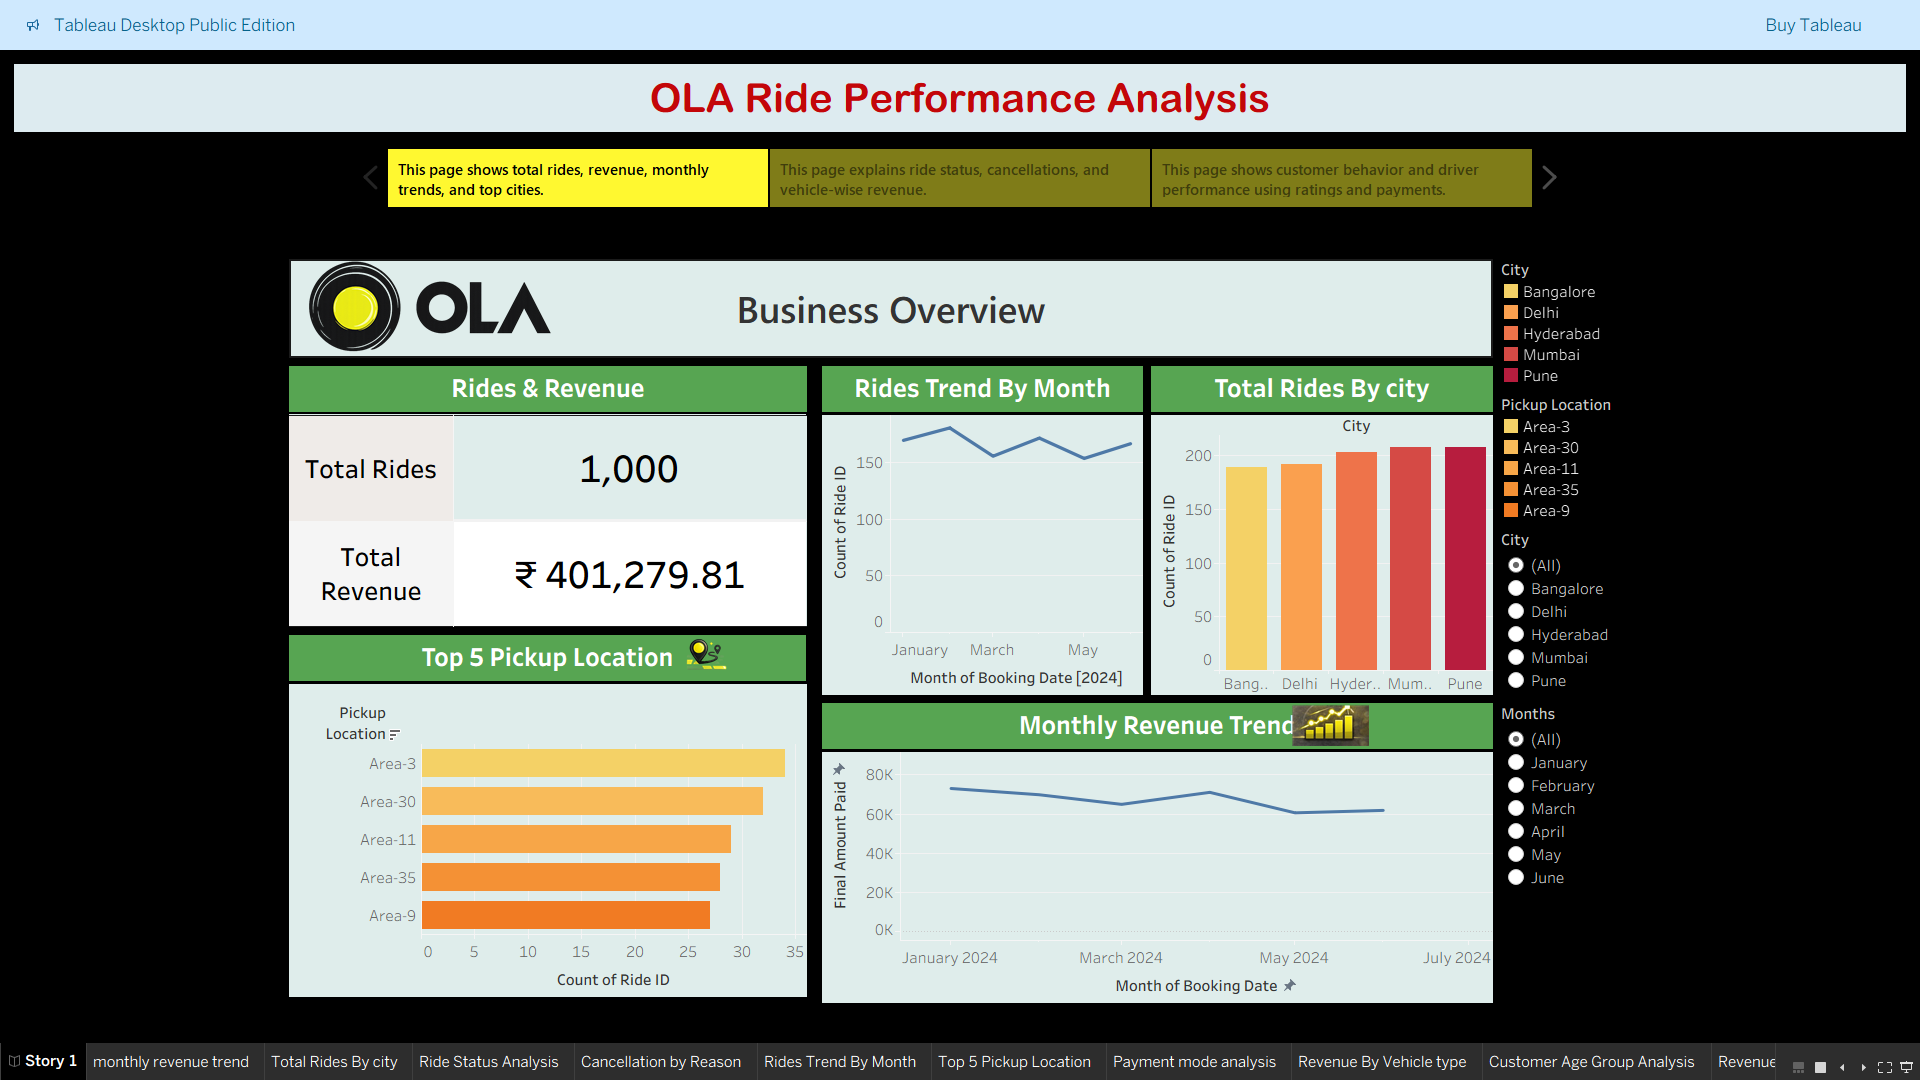

The page's visual inventory and layout, read from the dashboard file:
{"tool":"tableau","page":{"name":"Dashboard 1","canvas":[1366,768],"ordinal":0},"visuals":[{"type":"image","param":"Image/ChatGPT Image Jan 23, 2026, 07_50_12 PM.png","box":[24,6,341,106]},{"type":"title","box":[8,8,1212,107]},{"type":"legend","title":"Total Rides By city","param":"[federated.15s8yxy0pkkmwh123sj3a1ppizpt].[none:City:nk]","box":[1220,8,138,135]},{"type":"image","param":"Image/ChatGPT Image Jan 23, 2026, 10_05_11 PM (8).png","box":[768,25,127,71]},{"type":"worksheet","title":"Rides & revenue","mark":"Automatic","box":[8,115,533,269]},{"type":"worksheet","title":"Rides Trend By Month","mark":"Line","rows":["Ride_ID"],"cols":["Booking_Date"],"box":[541,115,329,337]},{"type":"worksheet","title":"Total Rides By city","mark":"Automatic","rows":["Ride_ID"],"cols":["City"],"box":[870,115,350,337]},{"type":"legend","title":"Top 5 Pickup Location","param":"[federated.15s8yxy0pkkmwh123sj3a1ppizpt].[none:Pickup_Location:nk]","box":[1220,143,138,135]},{"type":"filter","title":"Total Rides By city","param":"[federated.15s8yxy0pkkmwh123sj3a1ppizpt].[none:City:nk]","box":[1220,278,138,174]},{"type":"image","param":"Image/ChatGPT Image Jan 23, 2026, 10_05_11 PM (2).png","box":[397,380,62,67]},{"type":"worksheet","title":"Top 5 Pickup Location","mark":"Automatic","rows":["Pickup_Location"],"cols":["Ride_ID"],"box":[8,384,533,376]},{"type":"image","param":"Image/ChatGPT Image Jan 23, 2026, 10_05_11 PM (9).png","box":[1014,447,87,57]},{"type":"worksheet","title":"monthly revenue trend","mark":"Automatic","rows":["Final_Amount_Paid"],"cols":["Booking_Date"],"box":[541,452,679,308]},{"type":"filter","title":"Rides & revenue","param":"[federated.15s8yxy0pkkmwh123sj3a1ppizpt].[none:Calculation_0415371920162818:nk]","box":[1220,452,138,197]},{"type":"image","param":"Image/ChatGPT Image Jan 24, 2026, 09_20_13 PM.png","box":[1015,458,77,50]}]}

Visuals, with their boxes on the page's 1366x768 design canvas (x1, y1, x2, y2). These are canvas units, not pixel positions in the 1920x1080 screenshot, which may show the page scaled, cropped or inside an application window:
image: bbox=(24, 6, 365, 112)
title: bbox=(8, 8, 1220, 115)
"Total Rides By city" legend: bbox=(1220, 8, 1358, 143)
image: bbox=(768, 25, 895, 96)
"Rides & revenue" worksheet: bbox=(8, 115, 541, 384)
"Rides Trend By Month" worksheet (Line marks): bbox=(541, 115, 870, 452)
"Total Rides By city" worksheet: bbox=(870, 115, 1220, 452)
"Top 5 Pickup Location" legend: bbox=(1220, 143, 1358, 278)
"Total Rides By city" filter: bbox=(1220, 278, 1358, 452)
image: bbox=(397, 380, 459, 447)
"Top 5 Pickup Location" worksheet: bbox=(8, 384, 541, 760)
image: bbox=(1014, 447, 1101, 504)
"monthly revenue trend" worksheet: bbox=(541, 452, 1220, 760)
"Rides & revenue" filter: bbox=(1220, 452, 1358, 649)
image: bbox=(1015, 458, 1092, 508)
